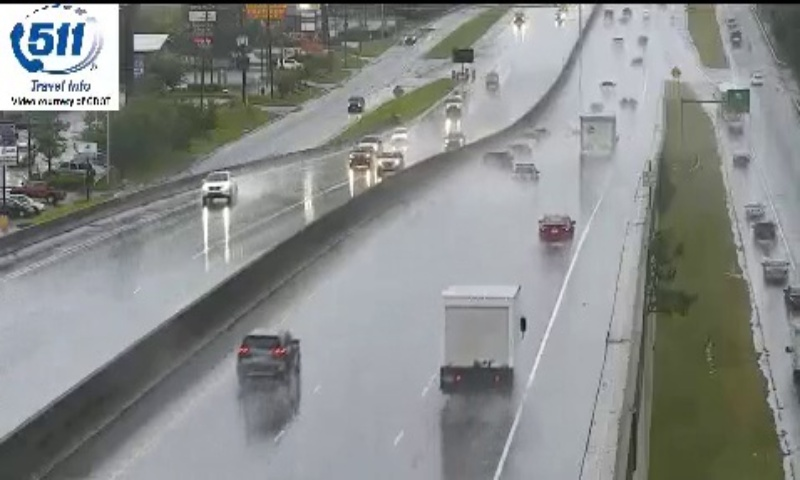car: (237, 327, 299, 382), (537, 215, 574, 245)
small-truck: (443, 285, 518, 380), (579, 114, 617, 161)
